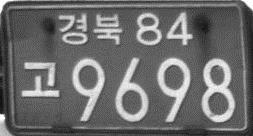4: (164, 11, 193, 45)
6: (113, 55, 150, 123)
8: (198, 56, 236, 123), (136, 12, 163, 45)
9: (156, 56, 192, 124), (69, 56, 106, 122)
경북_O: (56, 11, 123, 45)
고: (19, 59, 60, 98)
